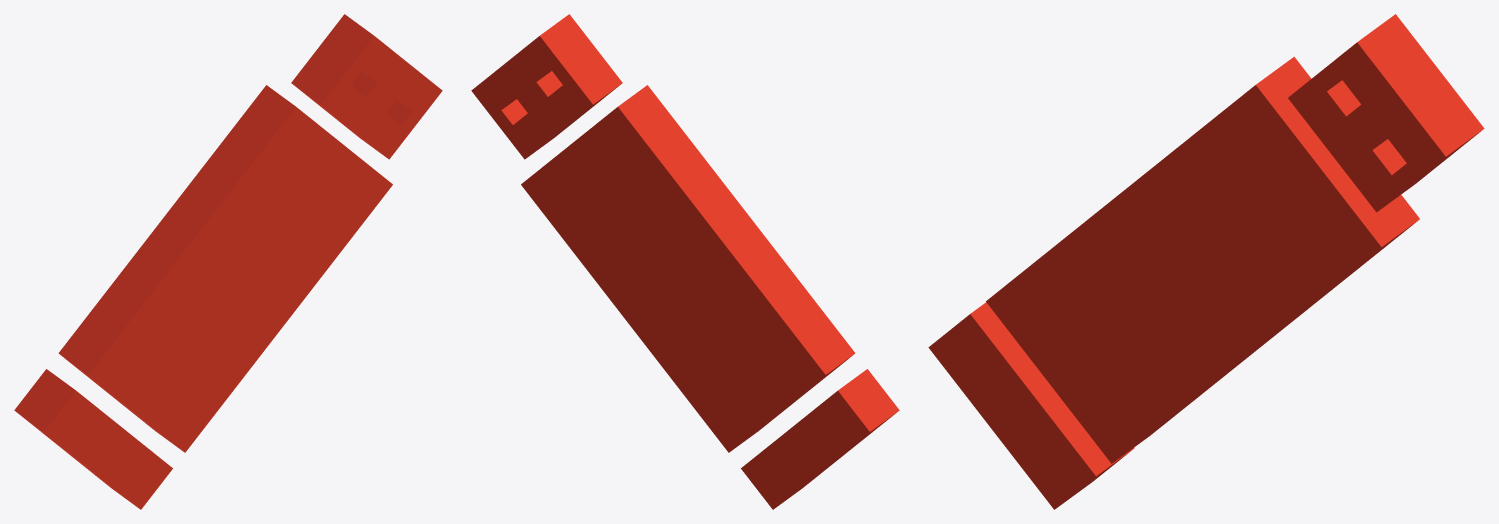
File: Icon_FlashDrive_02.fbx
3 views of the same model, side by side, from view 1: azimuth 30°, elevation 25°; view 2: azimuth 150°, elevation 25°; view 3: azimuth 330°, elevation 25° (orthographic). The views are drawn at different scales.
Parts seen in each view (by area): view 1: Icon_FlashDrive_02; view 2: Icon_FlashDrive_02; view 3: Icon_FlashDrive_02.
Boxes of the visible parts, <box> form: Icon_FlashDrive_02: <box>14,14,442,509</box>; Icon_FlashDrive_02: <box>471,14,899,509</box>; Icon_FlashDrive_02: <box>928,14,1484,509</box>.
Bounding box in the file's own units: 70.75 × 70.75 × 9.14.
